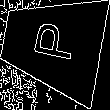P_W: (26, 22, 78, 68)
